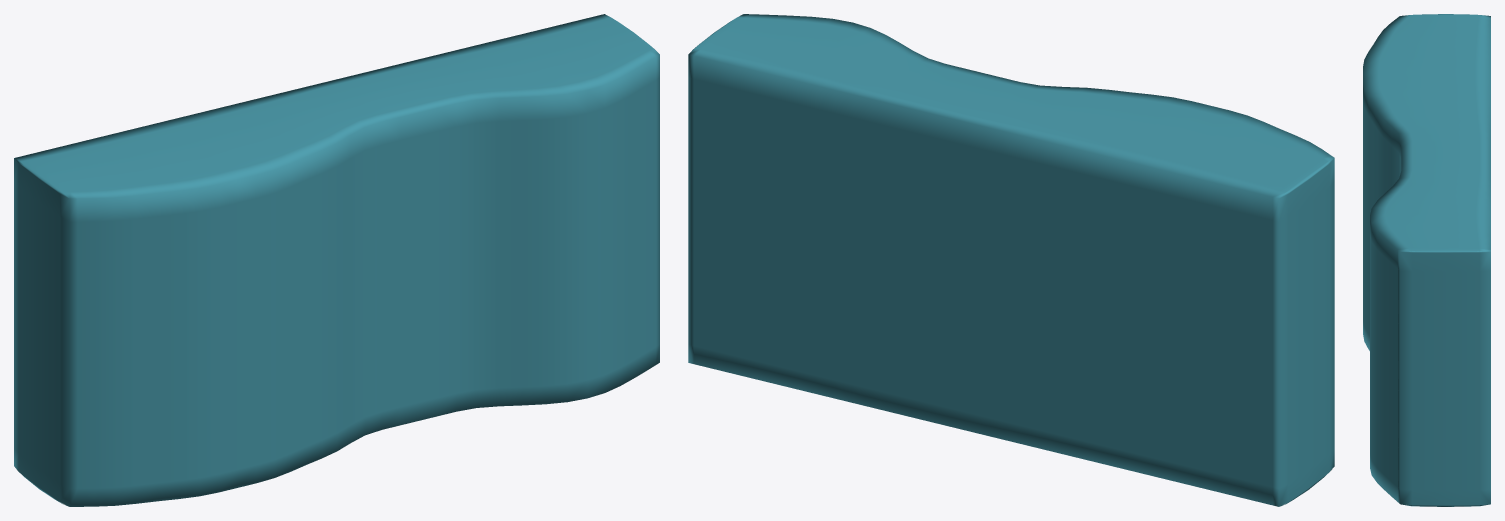
The model's file is Wall+Sand1.fbx.
3 views of the same model, side by side, from view 1: azimuth 30°, elevation 25°; view 2: azimuth 150°, elevation 25°; view 3: azimuth 270°, elevation 25° (orthographic). The views are drawn at different scales.
Parts seen in each view (by area): view 1: Tank1; view 2: Tank1; view 3: Tank1.
Boxes of the visible parts, box(x1,y1,x2,y2) form: Tank1: box(14, 14, 659, 506); Tank1: box(688, 14, 1334, 506); Tank1: box(1363, 14, 1490, 506).
Size of the model in its own units: 1272 by 639 by 289.
